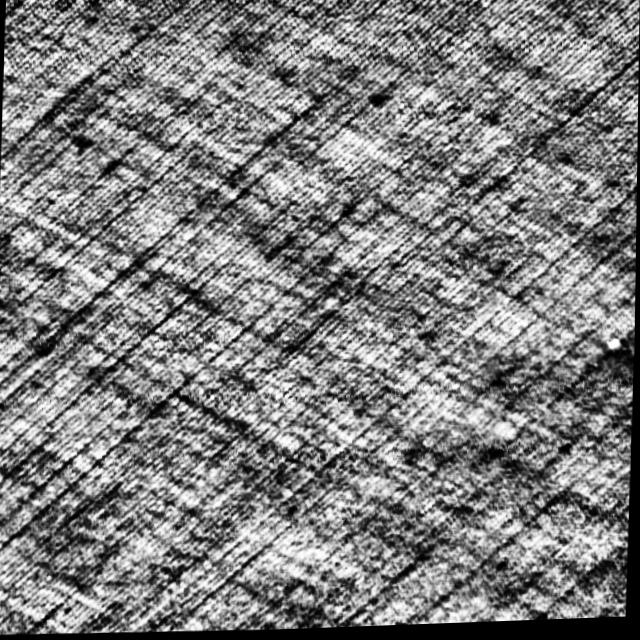Hole: (590, 333, 635, 363)
